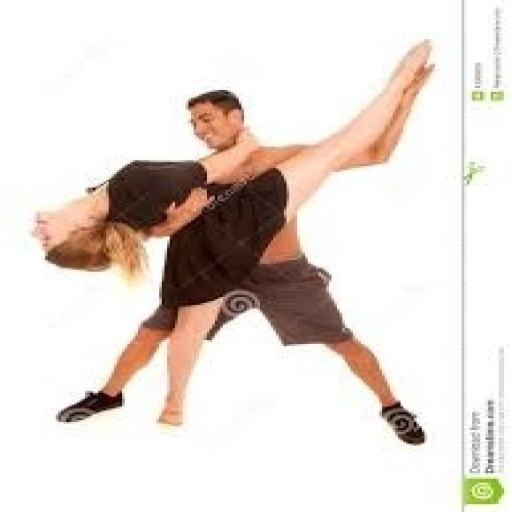dancing: (37, 37, 438, 448)
